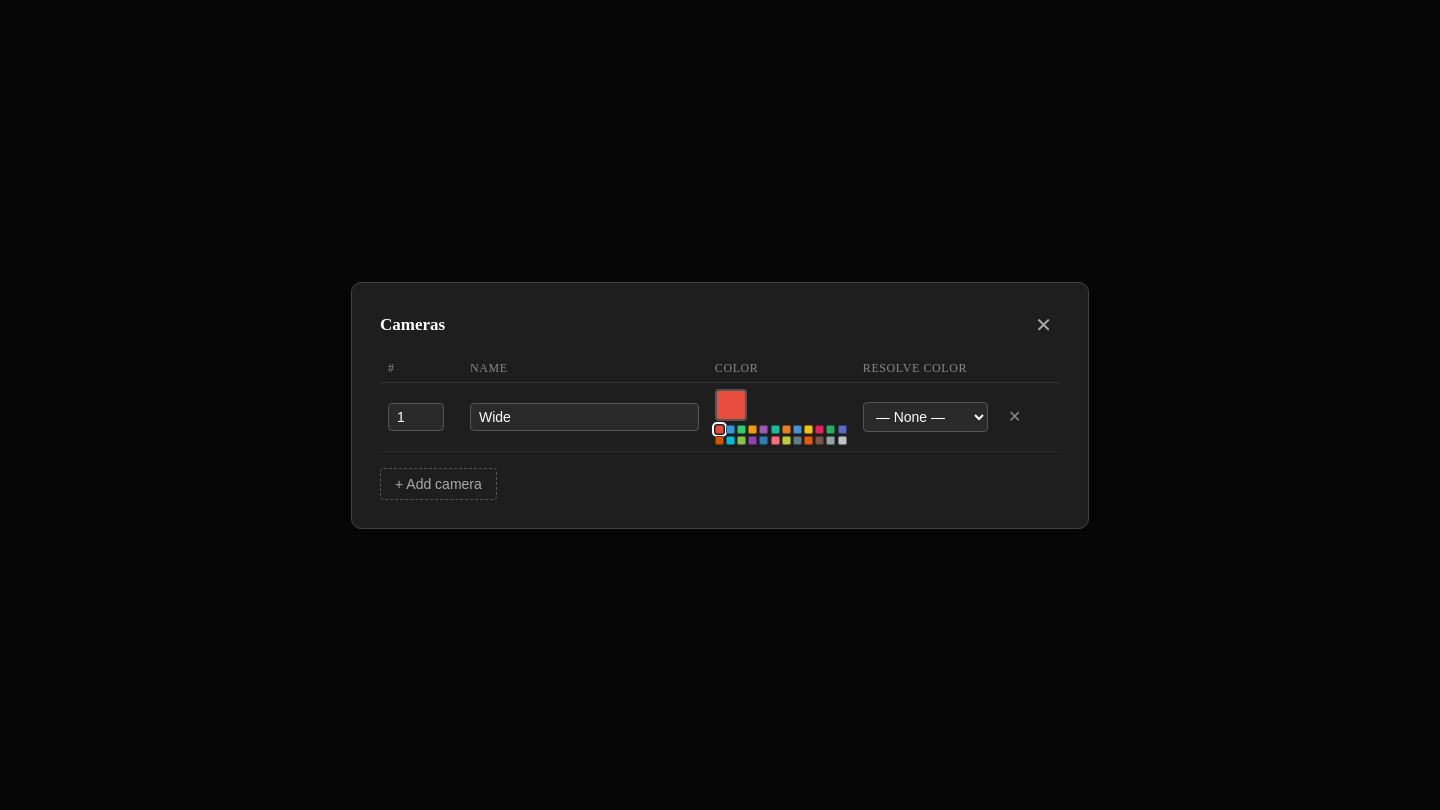
Scenario: CameraConfigPanel › explains a delete the foreign key refused
This screenshot has width=1440, height=810.
Click the button named "Delete camera Wide".
click(1015, 416)  # box top-left (1004, 403), bottom-right (1025, 430)
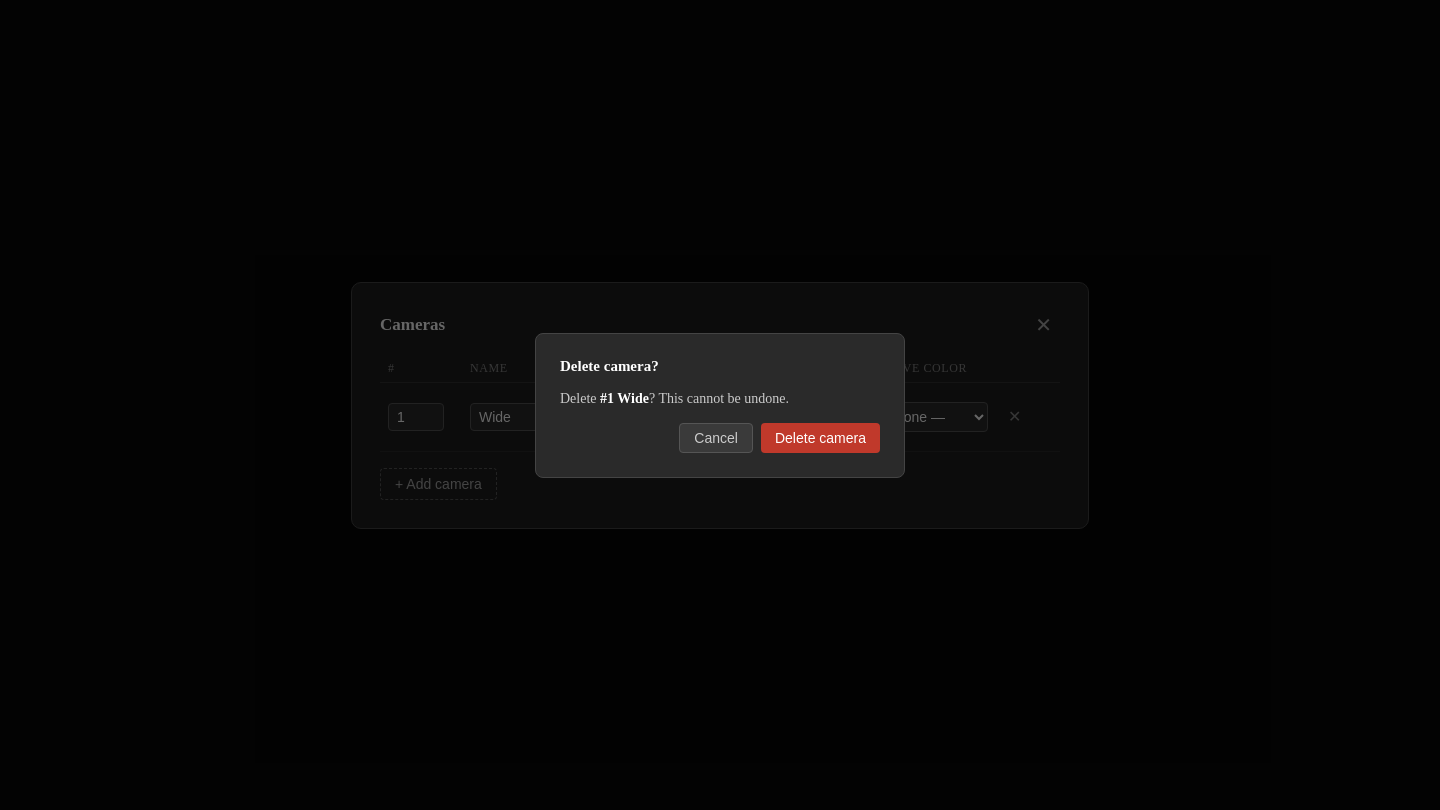
Click the button "Delete camera".
click(820, 438)  # box top-left (761, 422), bottom-right (880, 452)
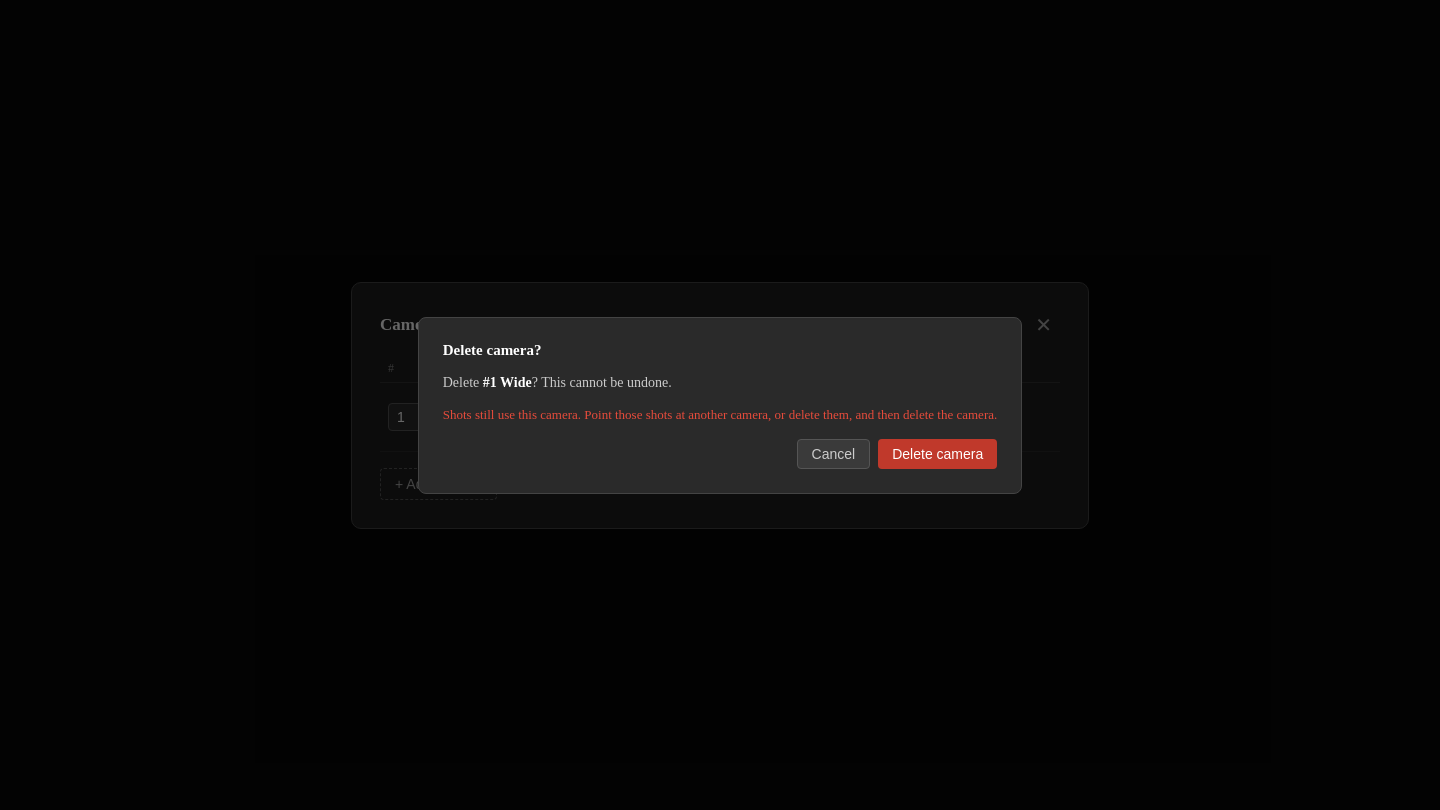
Expected: the text "Shots still use this camera" is shown, top-left (443, 406), bottom-right (997, 422)
